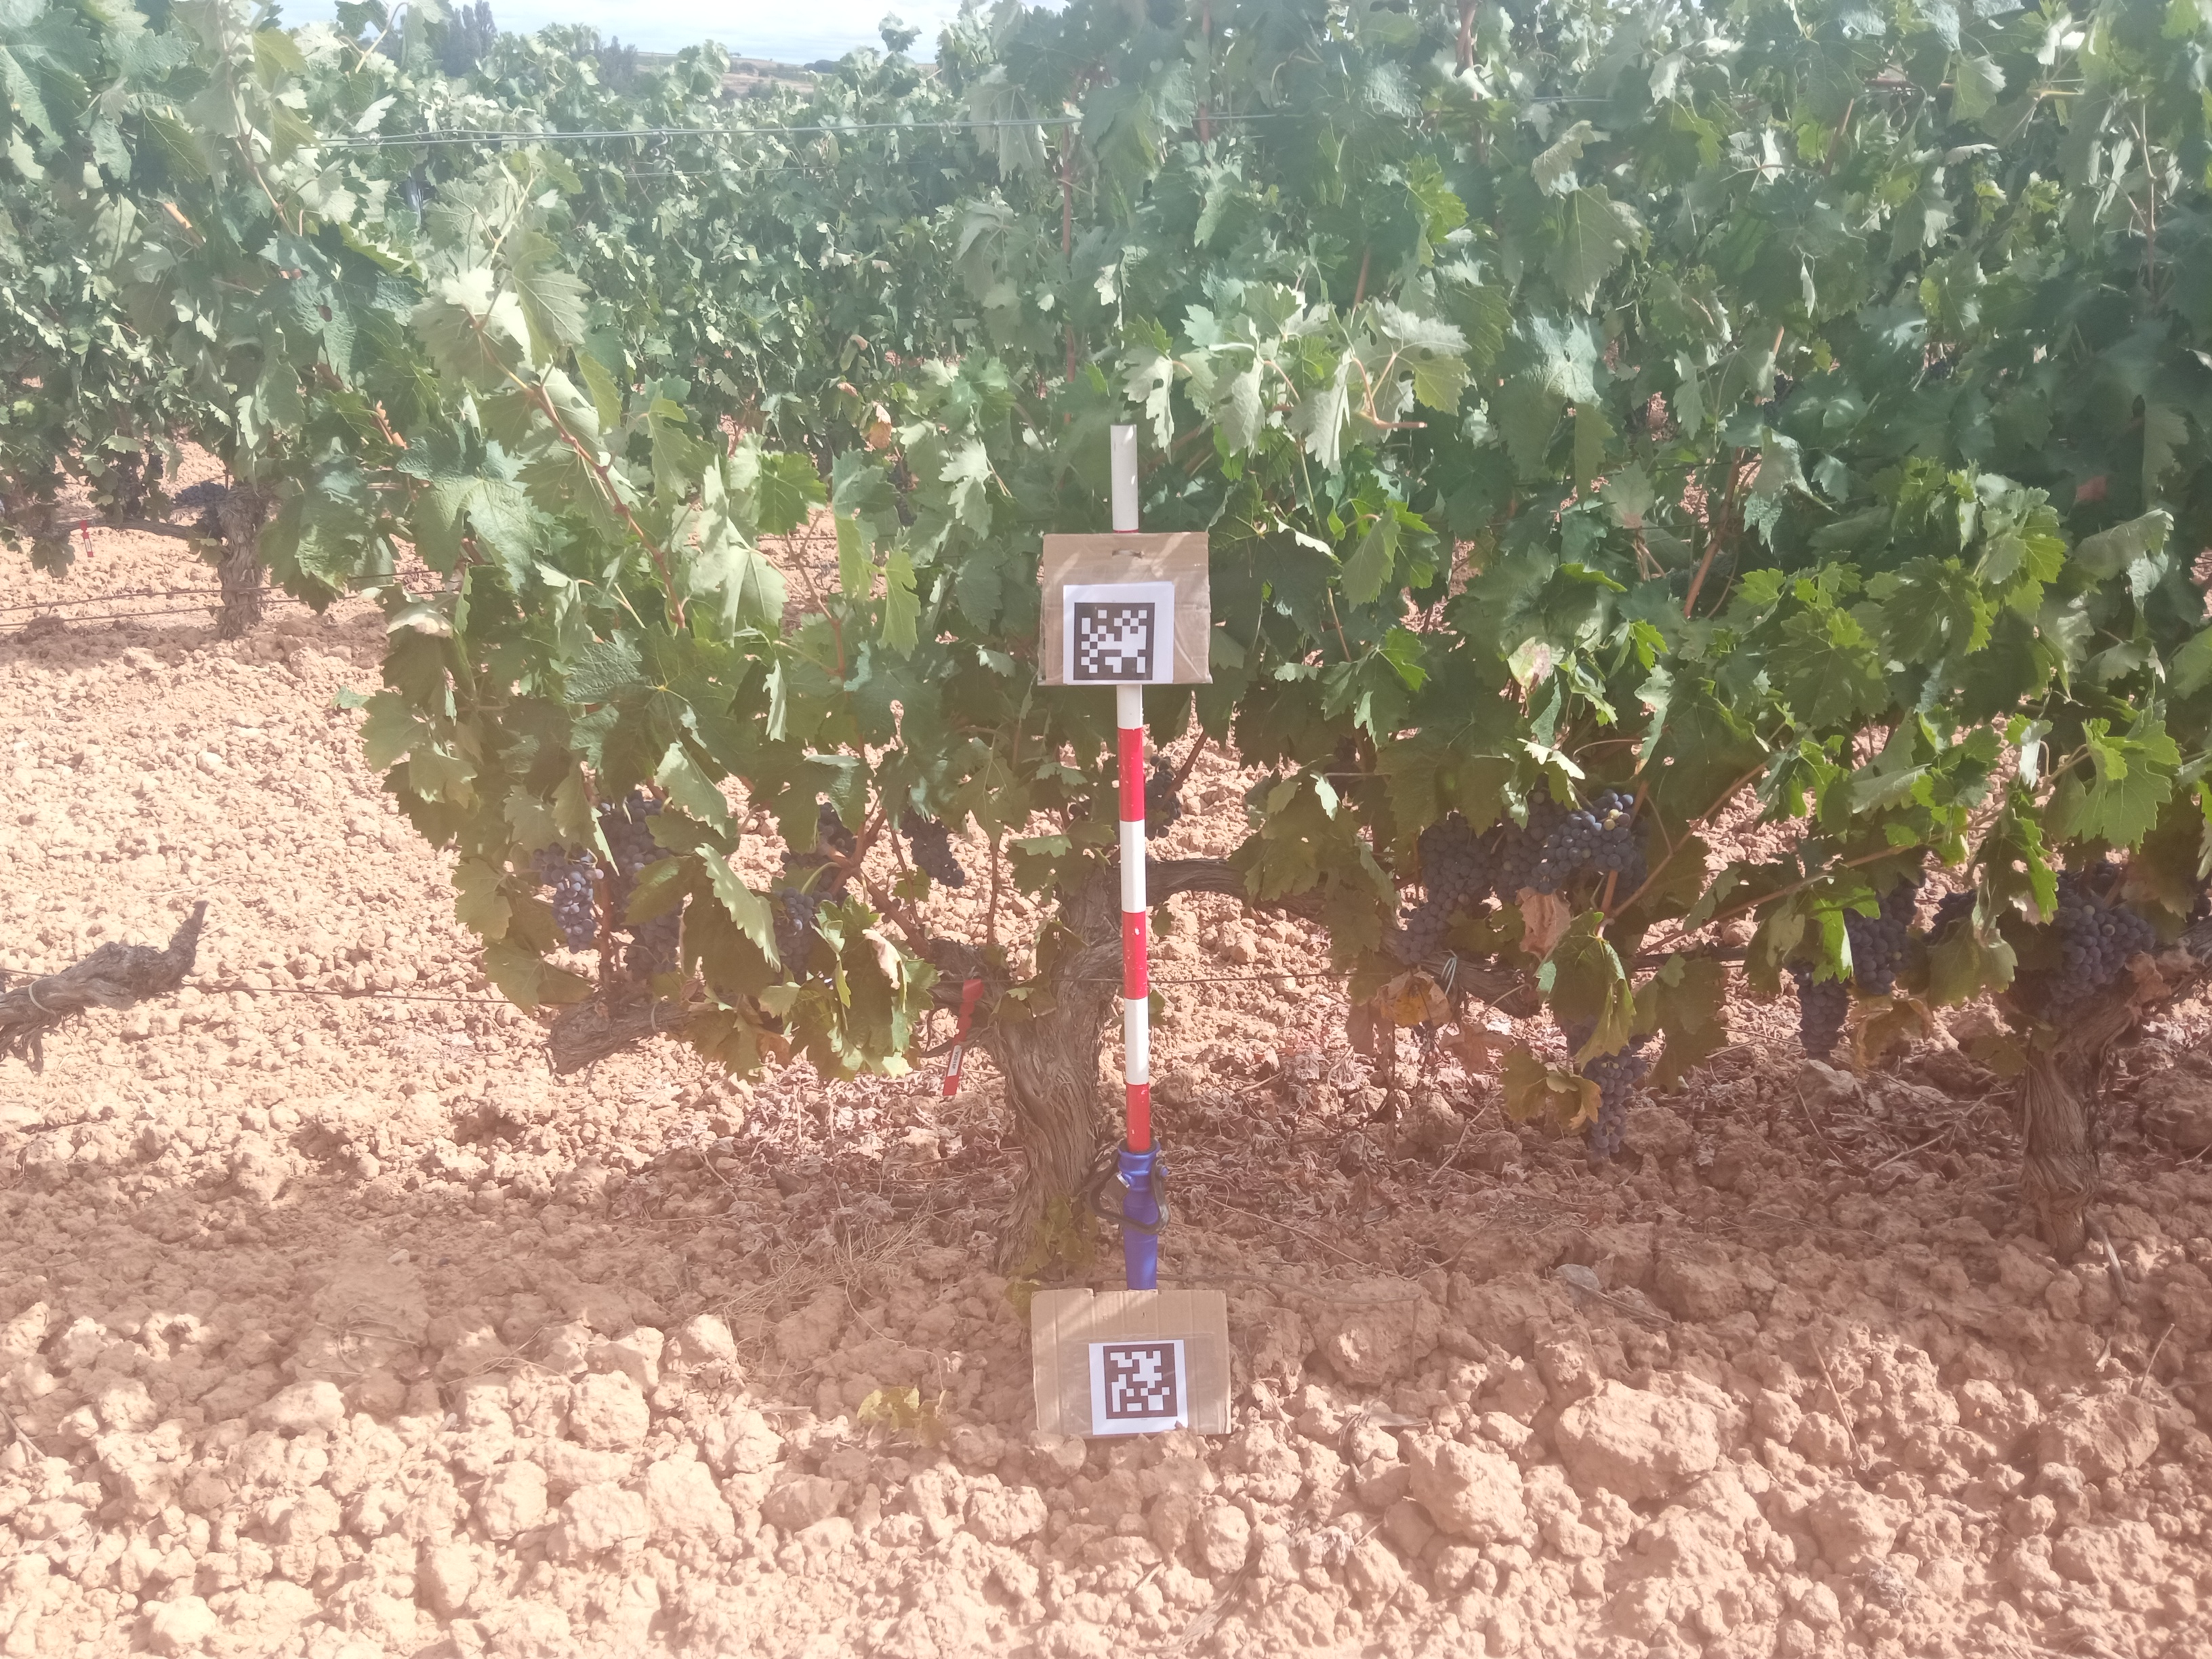grapes: (1393, 812, 1496, 985), (1500, 791, 1653, 899), (2050, 861, 2153, 1016), (1566, 1028, 1655, 1155), (1843, 887, 1916, 999), (529, 838, 599, 951), (596, 793, 676, 866), (1789, 962, 1846, 1061), (897, 810, 967, 889), (624, 906, 683, 988), (772, 887, 822, 981), (1144, 753, 1183, 838), (1923, 887, 1980, 943), (819, 805, 860, 857), (608, 866, 644, 918)
